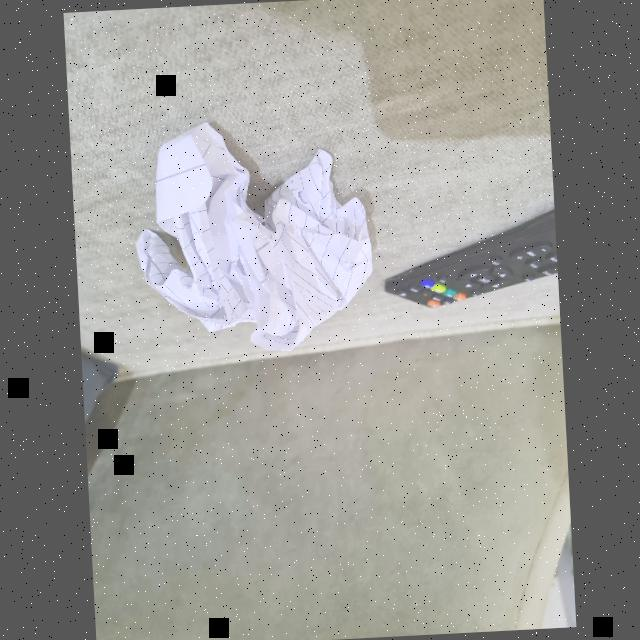scrap_paper: (135, 121, 370, 352)
